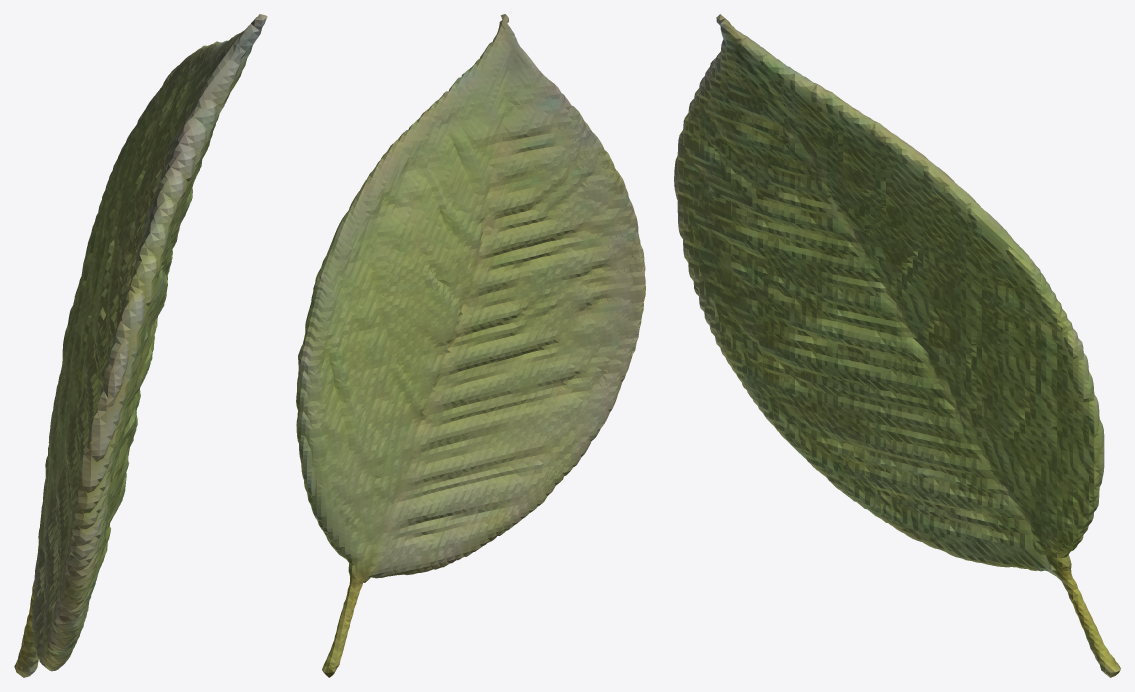
The model's file is leaf.glb.
3 renders of one model, left to right at view 1: azimuth 30°, elevation 25°; view 2: azimuth 150°, elevation 25°; view 3: azimuth 270°, elevation 25°, orthographic. The views are drawn at different scales.
Parts seen in each view (by area): view 1: world; view 2: world; view 3: world.
Part boxes in pixels (x1,y1,x2,y2): world: [14, 14, 267, 677]; world: [296, 14, 645, 677]; world: [674, 14, 1120, 677].
Size of the model in its own units: 0.3328 by 0.9235 by 0.5707.
